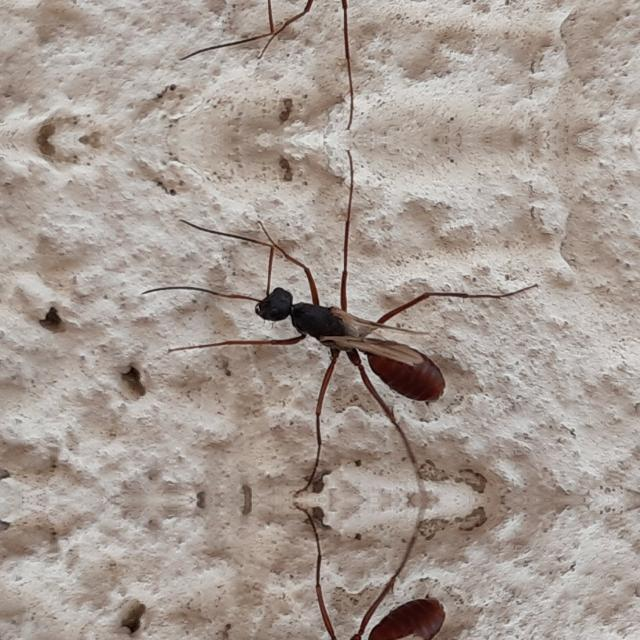Cataglyphis: (175, 248, 488, 424), (174, 574, 486, 640)
